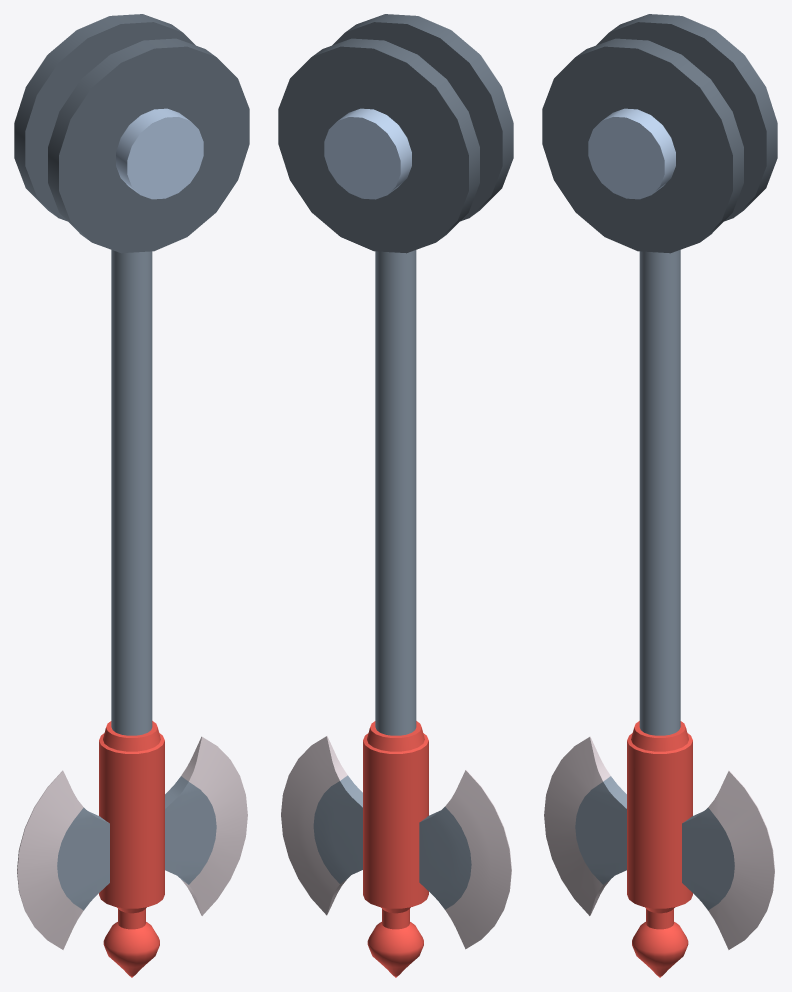
The model's file is AxeVertical.fbx.
3 views of the same model, side by side, from view 1: azimuth 30°, elevation 25°; view 2: azimuth 150°, elevation 25°; view 3: azimuth 330°, elevation 25° (orthographic).
Parts seen in each view (by area): view 1: Axe.001; view 2: Axe.001; view 3: Axe.001.
Boxes of the visible parts, bbox=[...] form: Axe.001: bbox=[14, 14, 249, 977]; Axe.001: bbox=[278, 14, 513, 977]; Axe.001: bbox=[542, 14, 777, 977].
Size of the model in its own units: 119 by 467 by 60.
